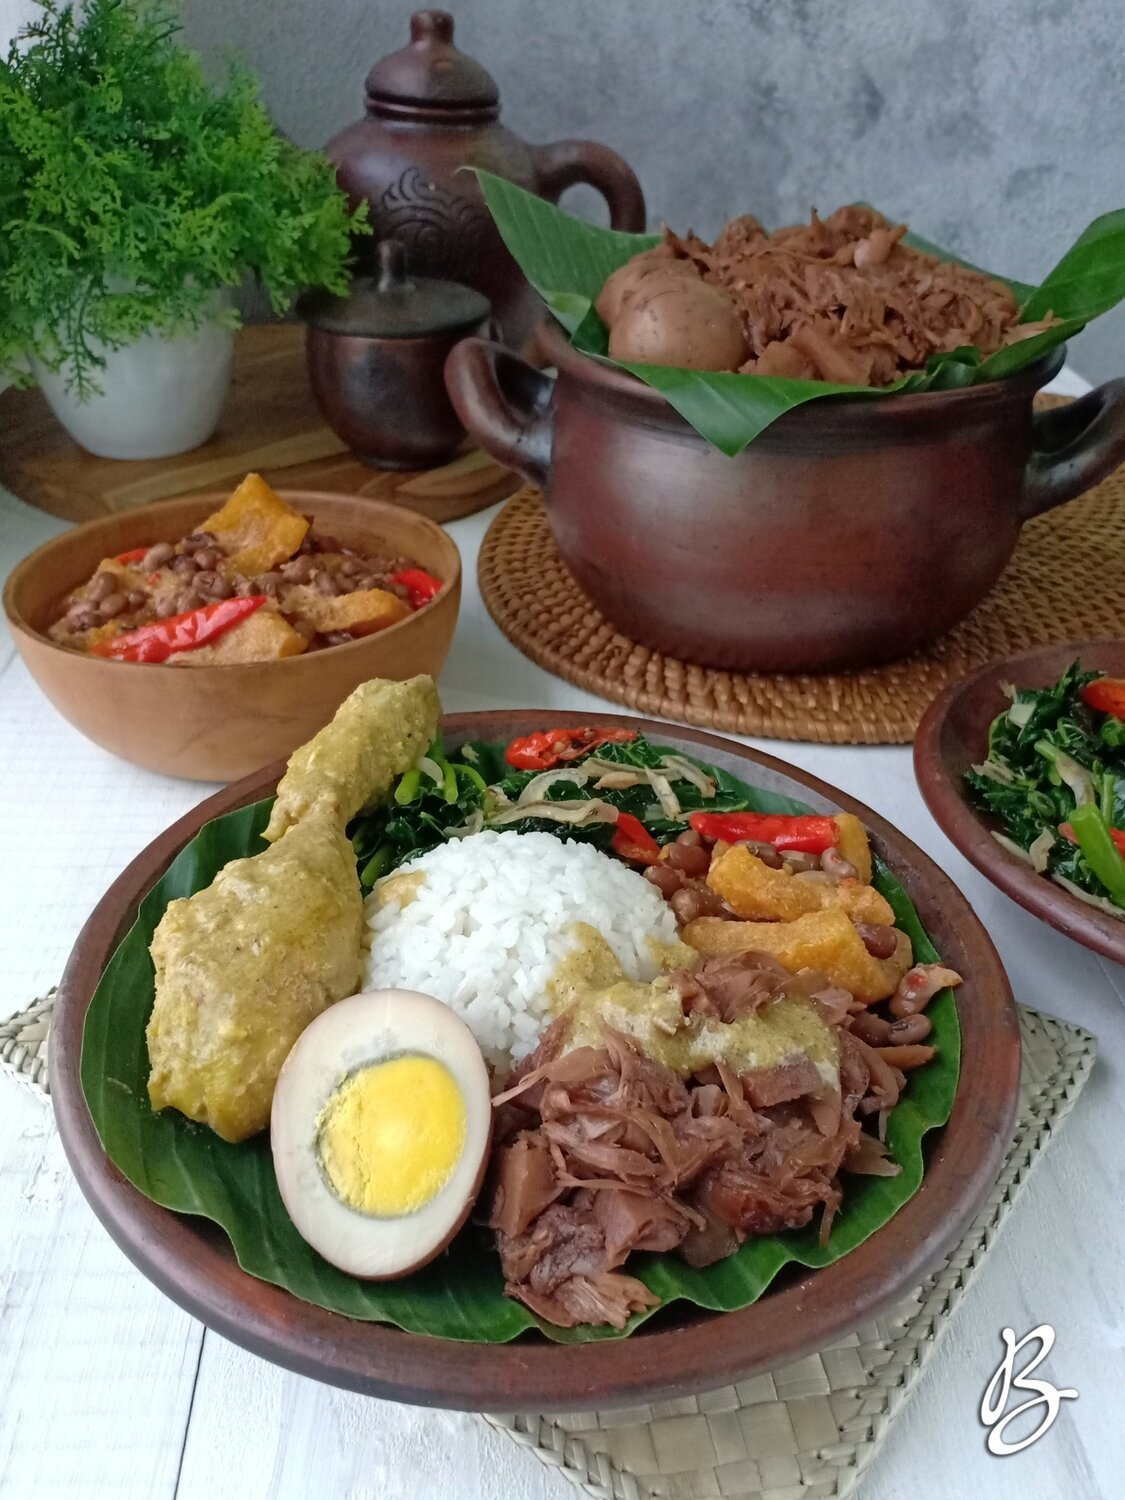gudeg: (148, 715, 883, 1296), (550, 158, 1043, 435)
